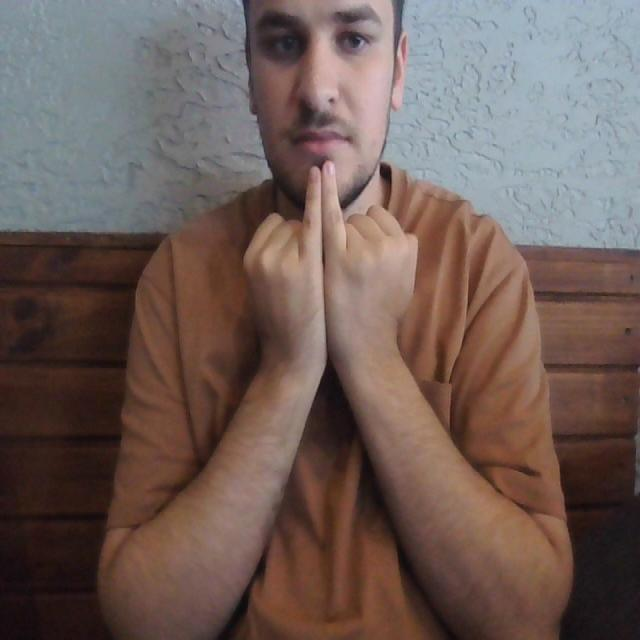Kardes: (238, 156, 424, 368)
